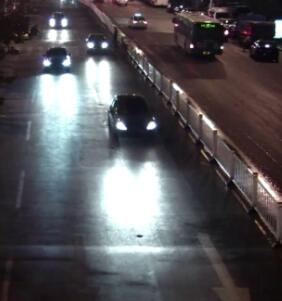bus: (168, 7, 228, 59)
car: (103, 89, 162, 147), (248, 35, 280, 63), (41, 44, 72, 72), (84, 30, 112, 55), (126, 9, 150, 31), (47, 10, 68, 29)
